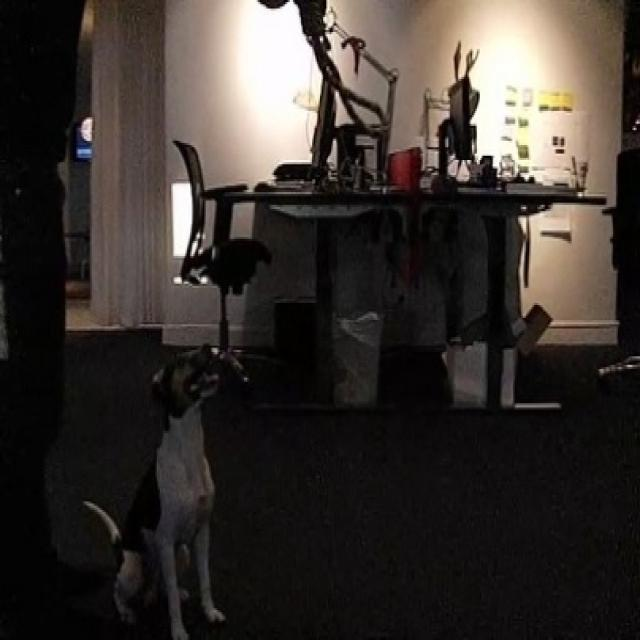Dog: (91, 360, 284, 626)
